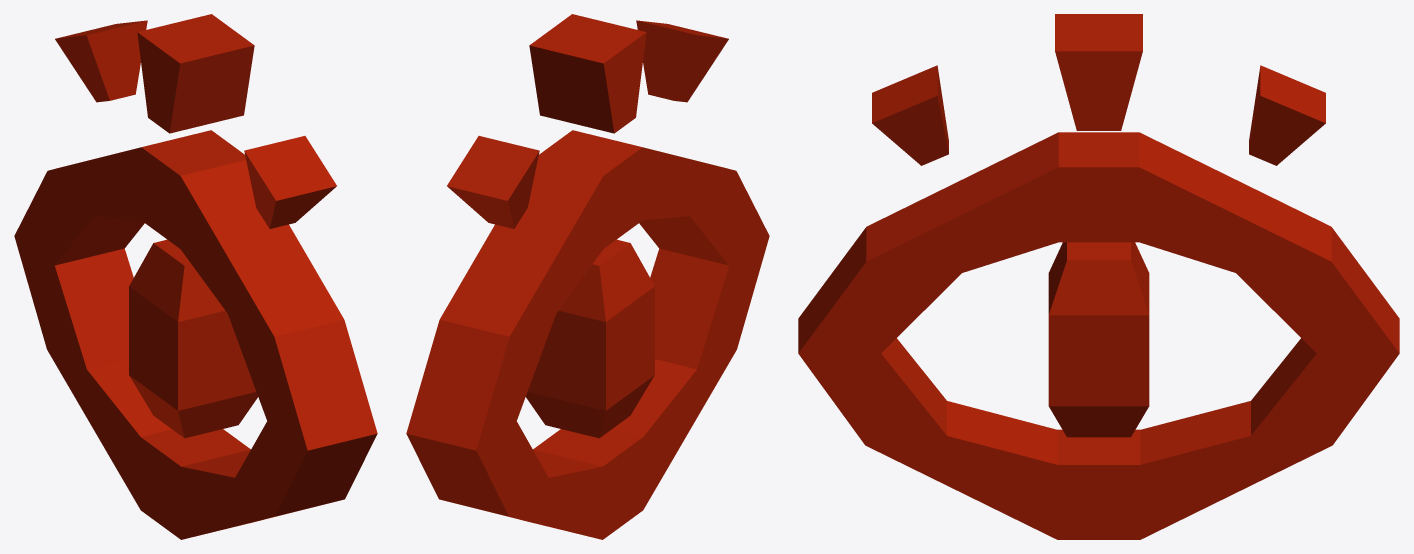
The model's file is Eye PowerUp.fbx.
3 renders of one model, left to right at view 1: azimuth 30°, elevation 25°; view 2: azimuth 150°, elevation 25°; view 3: azimuth 270°, elevation 25°, orthographic. The views are drawn at different scales.
Parts seen in each view (by area): view 1: Cube.005; view 2: Cube.005; view 3: Cube.005.
Part boxes in pixels (<box>): Cube.005: <box>14,14,377,539</box>; Cube.005: <box>406,14,769,539</box>; Cube.005: <box>798,14,1399,539</box>.
Bounding box in the file's own units: 55.86 × 301 × 334.
